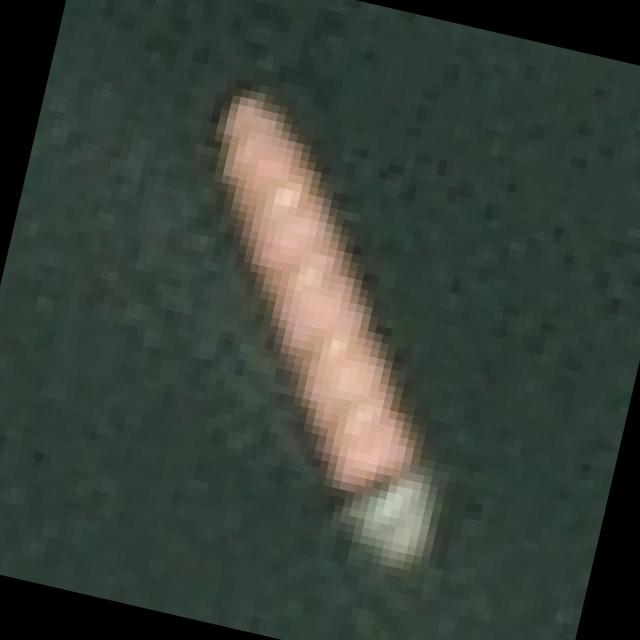ship: (81, 43, 575, 610)
